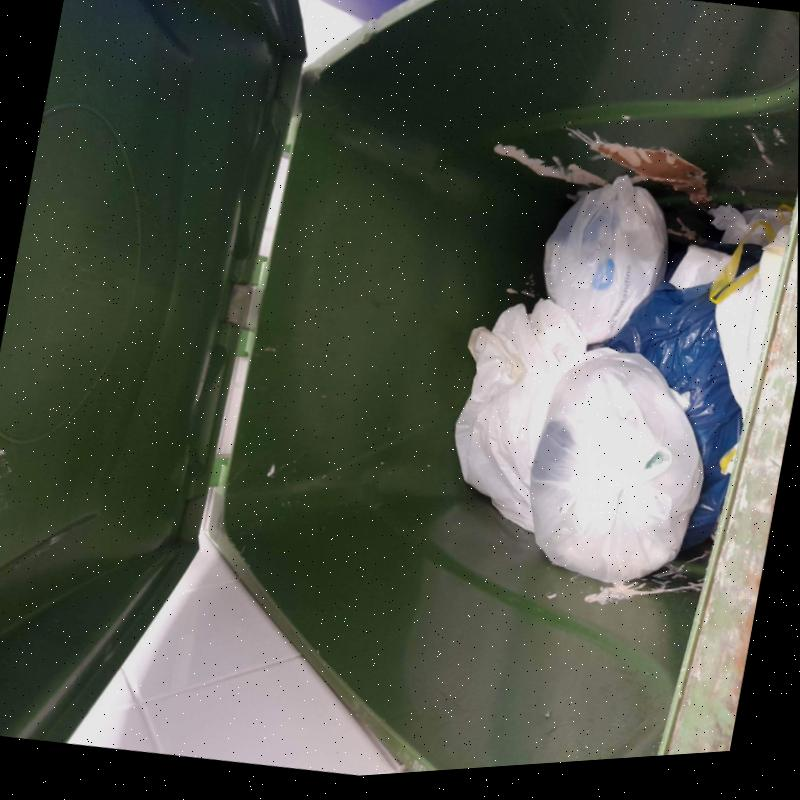plastic bag: (530, 353, 706, 583), (455, 294, 621, 534), (608, 281, 742, 552), (543, 175, 668, 345)
